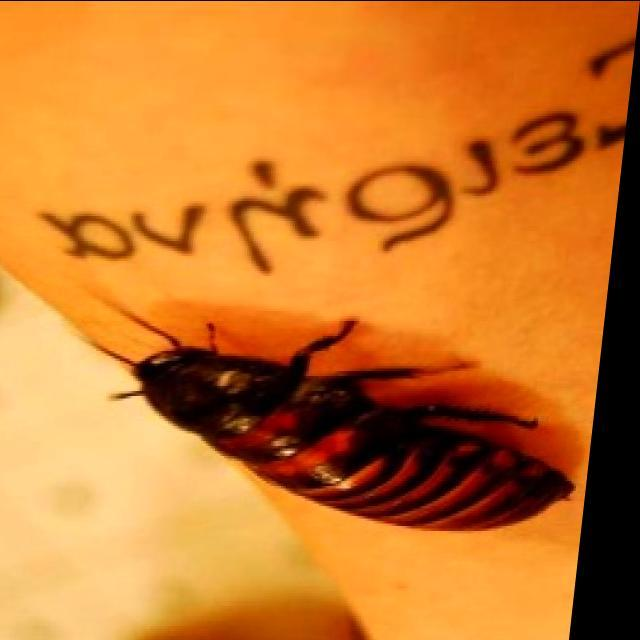cockroach: (92, 299, 577, 538)
